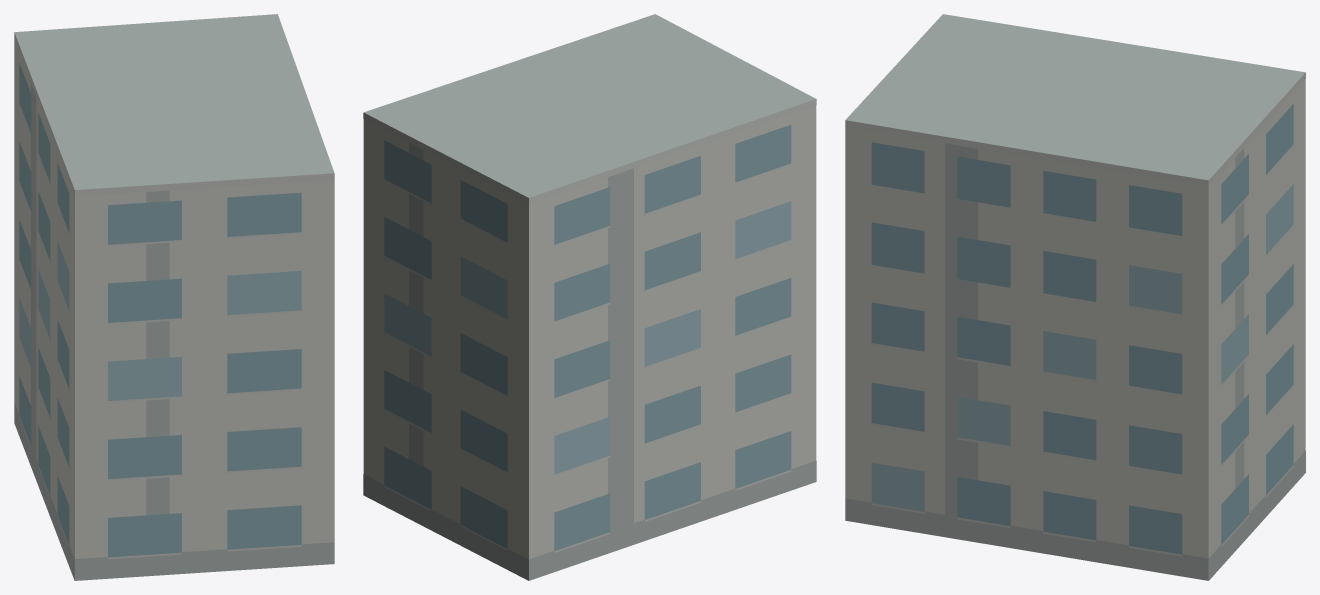
The model's file is survey-upis-32878377.glb.
The picture shows the model from 3 angles, left to right: view 1: azimuth 30°, elevation 25°; view 2: azimuth 150°, elevation 25°; view 3: azimuth 270°, elevation 25°; orthographic projection. The views are drawn at different scales.
Parts seen in each view (by area): view 1: survey-upis-32878377.tmp; view 2: survey-upis-32878377.tmp; view 3: survey-upis-32878377.tmp.
Part boxes in pixels (x1,y1,x2,y2): survey-upis-32878377.tmp: (14, 14, 334, 580); survey-upis-32878377.tmp: (363, 14, 816, 580); survey-upis-32878377.tmp: (845, 14, 1305, 580).
Bounding box in the file's own units: 12.84 × 14.4 × 15.01.
